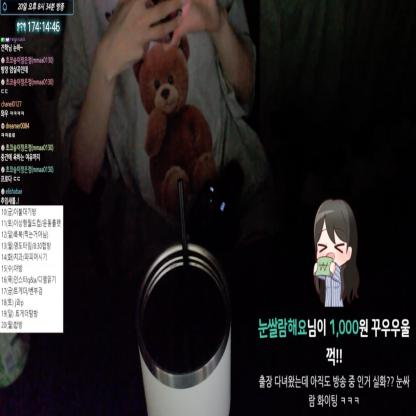donation: (255, 198, 414, 416)
streamer: (58, 0, 270, 285)
